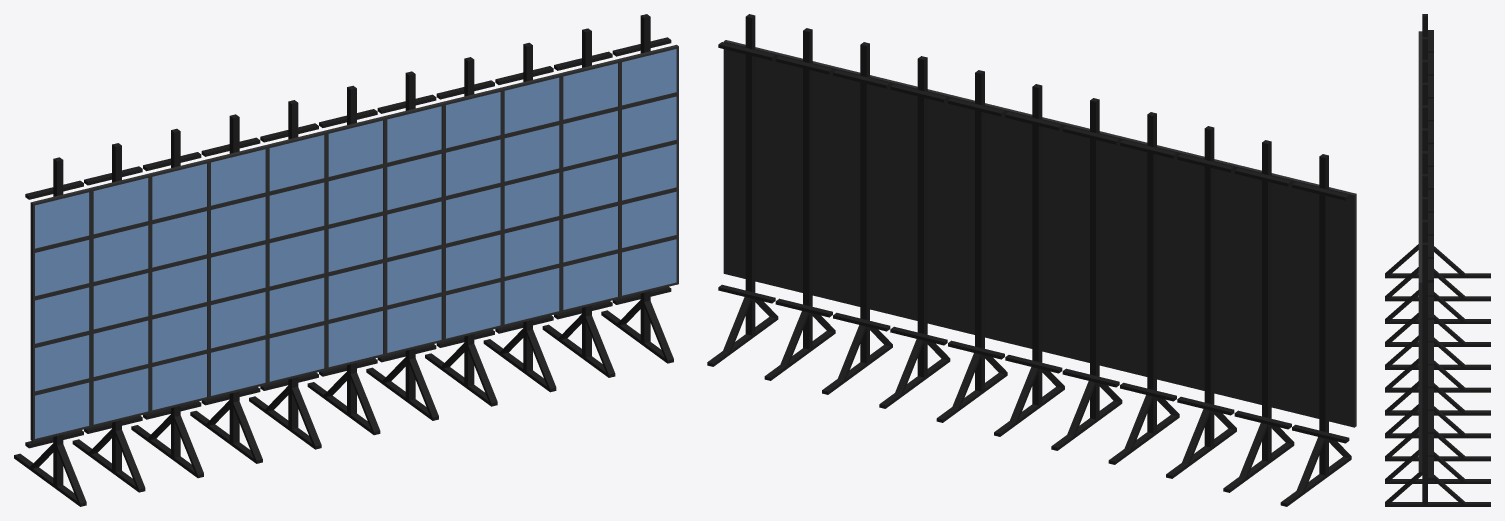
File: LambdaVision.fbx
3 views of the same model, side by side, from view 1: azimuth 30°, elevation 25°; view 2: azimuth 150°, elevation 25°; view 3: azimuth 270°, elevation 25° (orthographic). The views are drawn at different scales.
Visible parts, largest first — view 1: Cube.035, Cube.076, Cube.021, Cube.006, Cube.034, Cube.077, Cube.038, Cube.037, Cube.036, Cube.039, Cube.020, Cube.063 (+54 smaller); view 2: LambdaVisionSupport.009, LambdaVisionSupport.012, LambdaVisionSupport.003, LambdaVisionSupport, LambdaVisionSupport.001, LambdaVisionSupport.004, LambdaVisionSupport.011, LambdaVisionSupport.010, LambdaVisionSupport.008, LambdaVisionSupport.002, LambdaVisionSupport.005, Cube.039 (+54 smaller); view 3: LambdaVisionSupport.012, LambdaVisionSupport.001, LambdaVisionSupport.010, LambdaVisionSupport.004, LambdaVisionSupport.009, LambdaVisionSupport.008, LambdaVisionSupport.005, LambdaVisionSupport, LambdaVisionSupport.011, LambdaVisionSupport.002, LambdaVisionSupport.003, Cube.090 (+16 smaller).
Boxes of the visible parts, <box> form: Cube.035: <box>30,188,91,251</box>; Cube.076: <box>501,73,561,136</box>; Cube.021: <box>148,159,209,222</box>; Cube.006: <box>325,116,385,179</box>; Cube.034: <box>90,174,150,236</box>; Cube.077: <box>559,59,620,122</box>; Cube.038: <box>30,332,91,393</box>; Cube.037: <box>30,285,91,346</box>; Cube.036: <box>30,237,91,298</box>; Cube.039: <box>30,380,91,441</box>; Cube.020: <box>207,145,267,208</box>; Cube.063: <box>442,87,502,150</box>; LambdaVisionSupport.009: <box>879,56,950,408</box>; LambdaVisionSupport.012: <box>707,14,778,366</box>; LambdaVisionSupport.003: <box>1166,126,1236,478</box>; LambdaVisionSupport: <box>994,84,1064,436</box>; LambdaVisionSupport.001: <box>1051,98,1122,450</box>; LambdaVisionSupport.004: <box>1223,140,1294,492</box>; LambdaVisionSupport.011: <box>764,28,835,380</box>; LambdaVisionSupport.010: <box>822,42,892,394</box>; LambdaVisionSupport.008: <box>936,70,1007,422</box>; LambdaVisionSupport.002: <box>1108,112,1179,464</box>; LambdaVisionSupport.005: <box>1280,154,1351,506</box>; Cube.039: <box>1297,367,1356,427</box>; LambdaVisionSupport.012: <box>1385,242,1490,506</box>; LambdaVisionSupport.001: <box>1385,105,1490,369</box>; LambdaVisionSupport.010: <box>1385,197,1490,461</box>; LambdaVisionSupport.004: <box>1385,37,1490,301</box>; LambdaVisionSupport.009: <box>1385,174,1490,438</box>; LambdaVisionSupport.008: <box>1385,151,1490,415</box>; LambdaVisionSupport.005: <box>1385,14,1490,278</box>; LambdaVisionSupport: <box>1385,128,1490,392</box>; LambdaVisionSupport.011: <box>1385,219,1490,483</box>; LambdaVisionSupport.002: <box>1385,82,1490,346</box>; LambdaVisionSupport.003: <box>1385,59,1490,323</box>; Cube.090: <box>1418,260,1422,320</box>.
Bounding box in the file's own units: 5.11 × 2.48 × 0.91.
